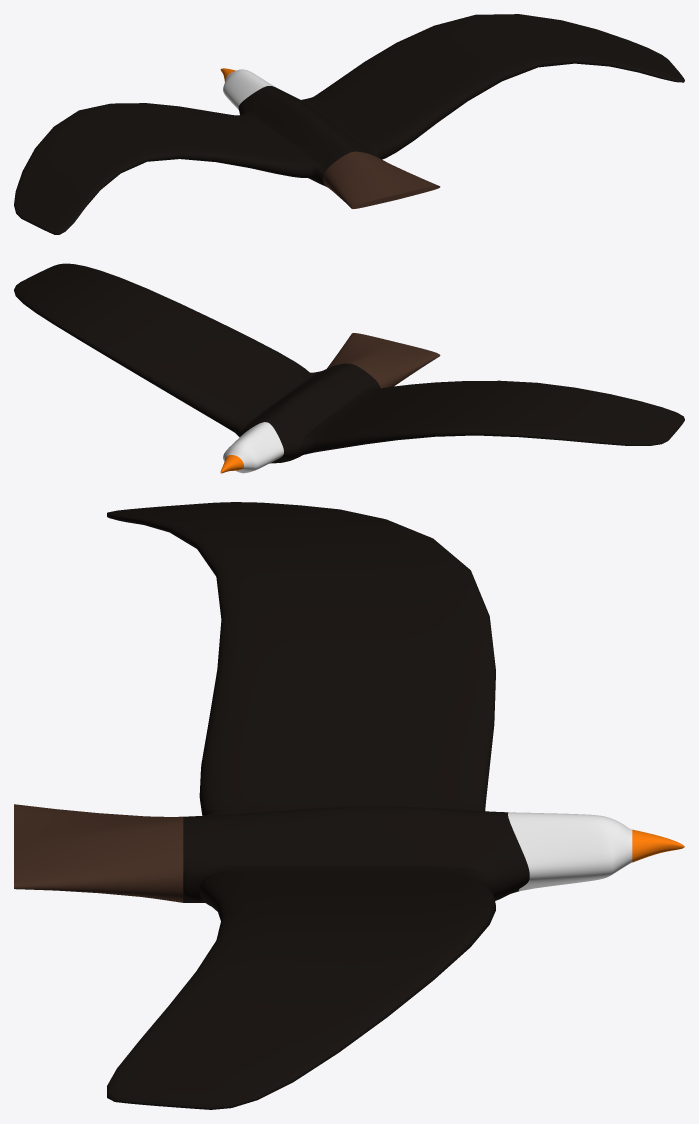
Rendered from wind_eagle.obj.
3 renders of one model, top to bottom at view 1: azimuth 30°, elevation 25°; view 2: azimuth 150°, elevation 25°; view 3: azimuth 270°, elevation 25°, orthographic. The views are drawn at different scales.
Parts seen in each view (by area): view 1: Cylinder001; view 2: Cylinder001; view 3: Cylinder001.
Part boxes in pixels (x1,y1,x2,y2): Cylinder001: (14, 14, 684, 234); Cylinder001: (14, 263, 684, 473); Cylinder001: (14, 502, 684, 1109).
Bounding box in the file's own units: 260 × 32.16 × 122.
